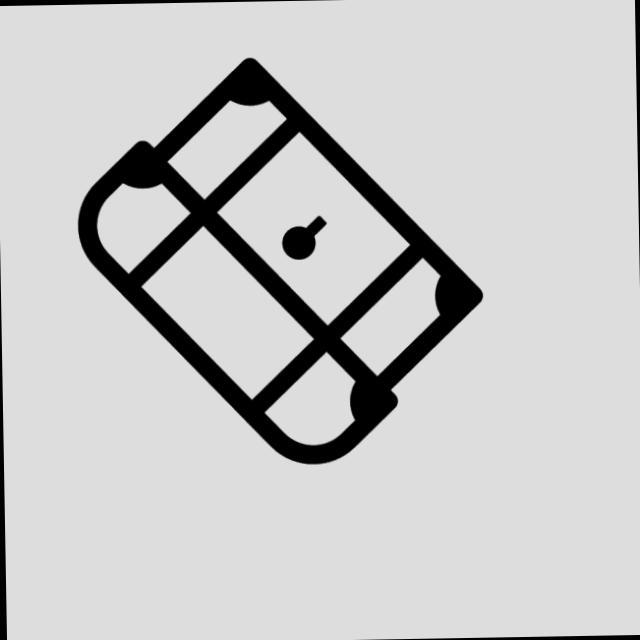treasure_box: (65, 47, 492, 475)
